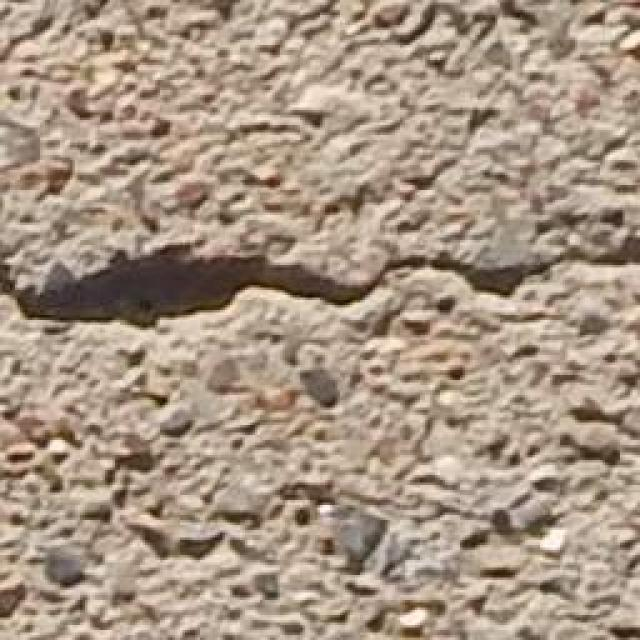concrete-crack: (0, 227, 640, 343)
